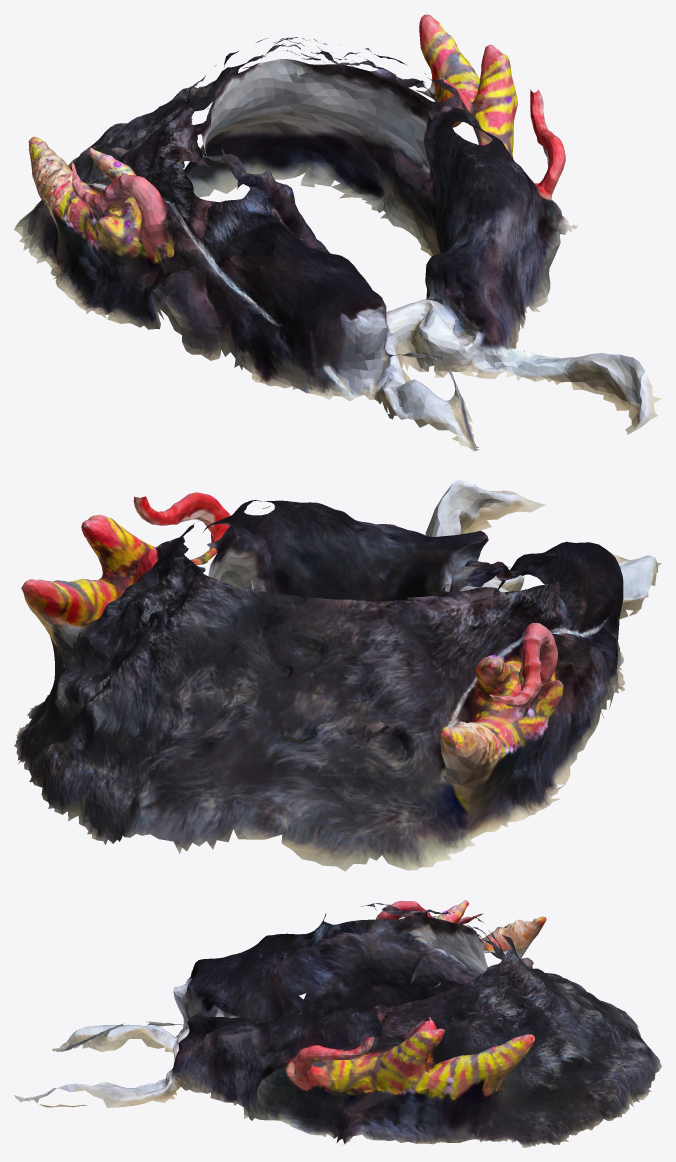
File: Shuo_Xi.glb
The picture shows the model from 3 angles, top to bottom: view 1: azimuth 30°, elevation 25°; view 2: azimuth 150°, elevation 25°; view 3: azimuth 270°, elevation 25°; orthographic projection. The views are drawn at different scales.
Visible parts, largest first — view 1: Mesh_0; view 2: Mesh_0; view 3: Mesh_0.
Boxes of the visible parts, box(x1,y1,x2,y2) form: Mesh_0: box(14, 14, 661, 451); Mesh_0: box(14, 480, 661, 871); Mesh_0: box(14, 900, 661, 1147).
Bounding box in the file's own units: 2.43 × 0.946 × 4.01.
Materials: 1 (1 with a texture image).
